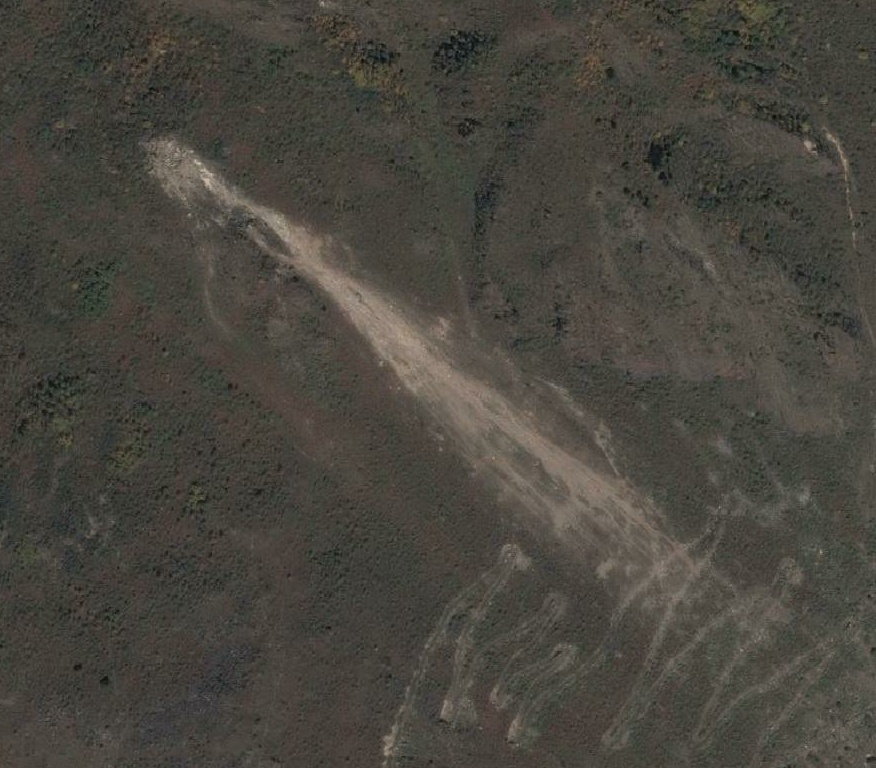slope: (145, 128, 628, 554)
